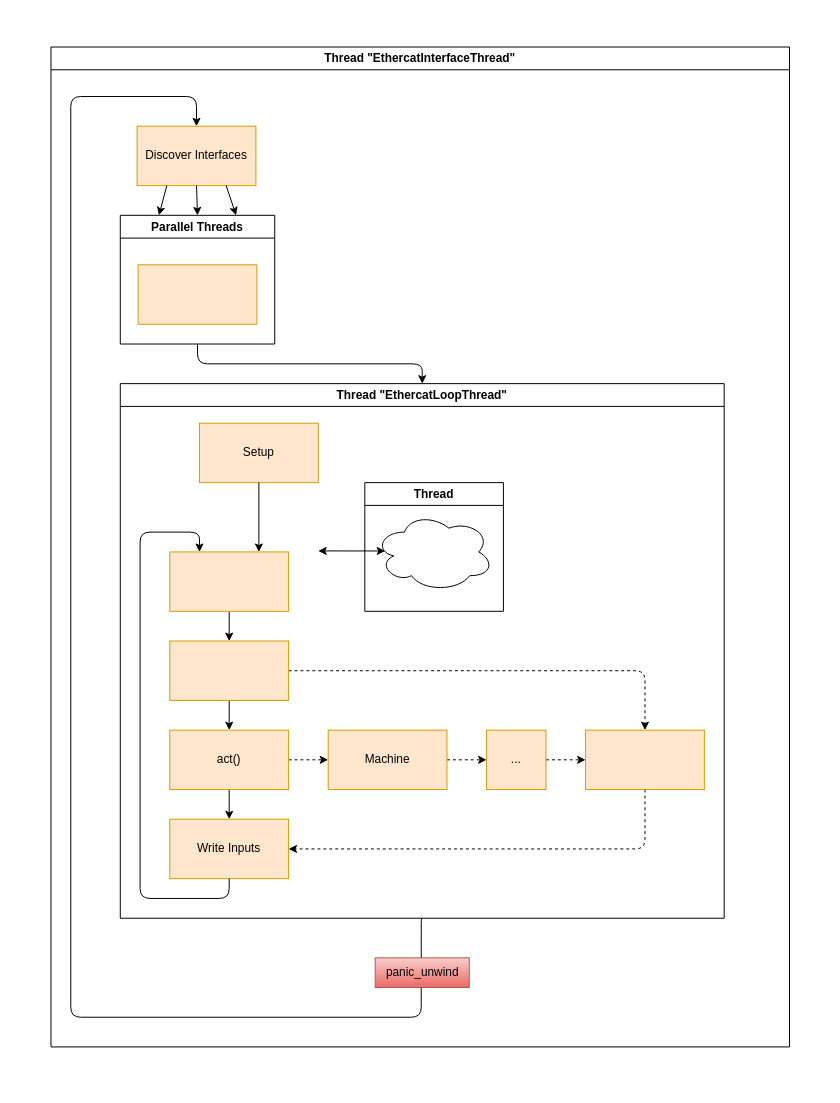
This 840x1103 diagram has some shape labels left out. Here are the shapes that lost their labels. From the top down, the centre of each, then its label:
At pixel 197 294: "Test Interface".
At pixel 434 551: "EtherCAT".
At pixel 229 581: "TX/RX".
At pixel 229 670: "Read Inputs".
At pixel 644 759: "Device".
